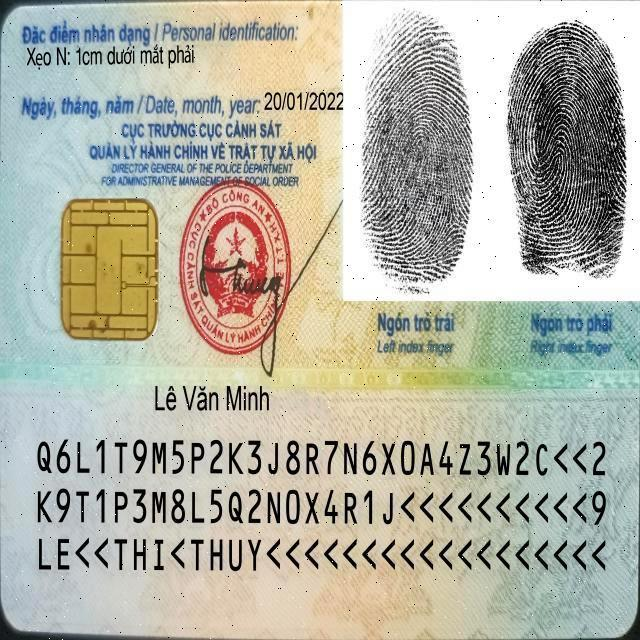features: (27, 40, 200, 74)
finger_print: (342, 1, 495, 355), (498, 2, 639, 357)
issue_date: (262, 87, 346, 116)
